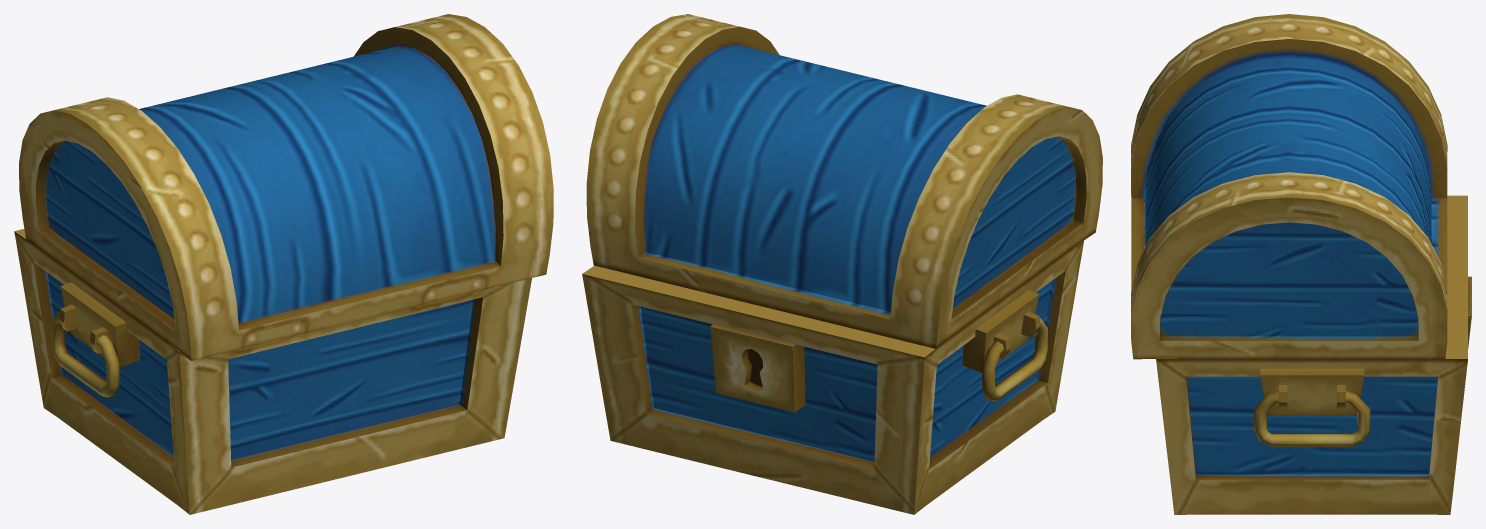
The model's file is apple.glb.
3 renders of one model, left to right at view 1: azimuth 30°, elevation 25°; view 2: azimuth 150°, elevation 25°; view 3: azimuth 270°, elevation 25°, orthographic. The views are drawn at different scales.
Visible parts, largest first — view 1: Tapa, Caja; view 2: Tapa, Caja; view 3: Tapa, Caja.
Part boxes in pixels (box(x1,y1,x2,y2)): Tapa: box(19, 14, 553, 360); Caja: box(14, 229, 531, 514); Tapa: box(586, 14, 1102, 348); Caja: box(582, 240, 1083, 514); Tapa: box(1131, 14, 1447, 359); Caja: box(1156, 195, 1471, 514).
Size of the model in its own units: 5.62 by 4.82 by 4.42.
3 materials, 2 textured.
